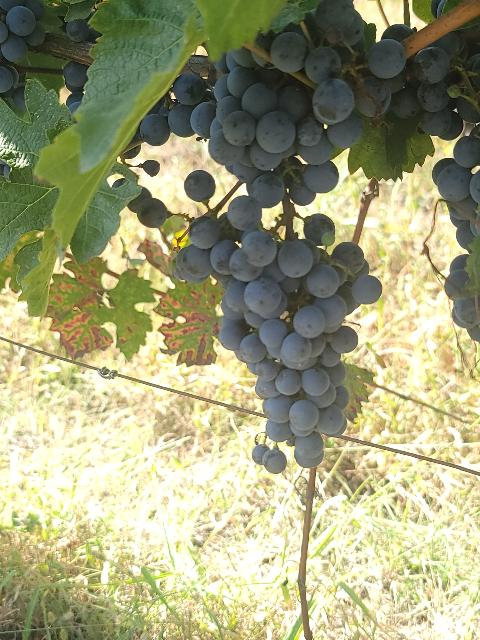grapes: (140, 0, 479, 208), (176, 195, 381, 468), (432, 129, 480, 251), (444, 254, 479, 340)
